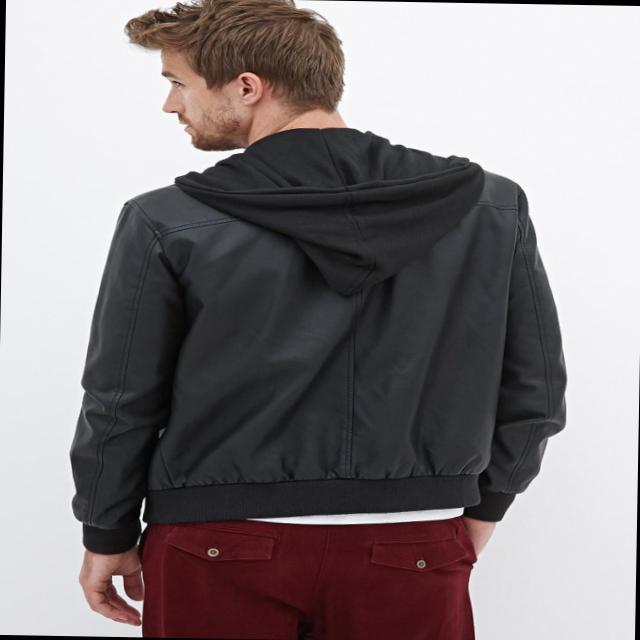Jacket: (58, 126, 572, 538)
